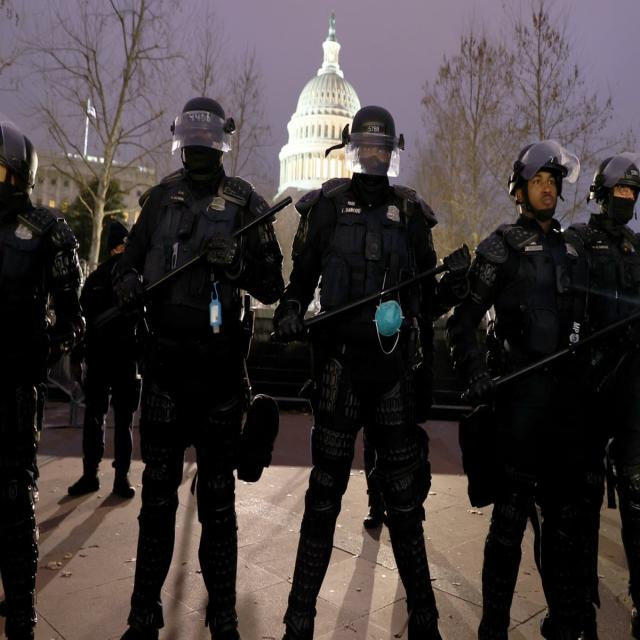police: (296, 90, 457, 640), (126, 73, 275, 614), (473, 102, 597, 640), (0, 108, 89, 639), (557, 131, 640, 567), (57, 194, 150, 514)
